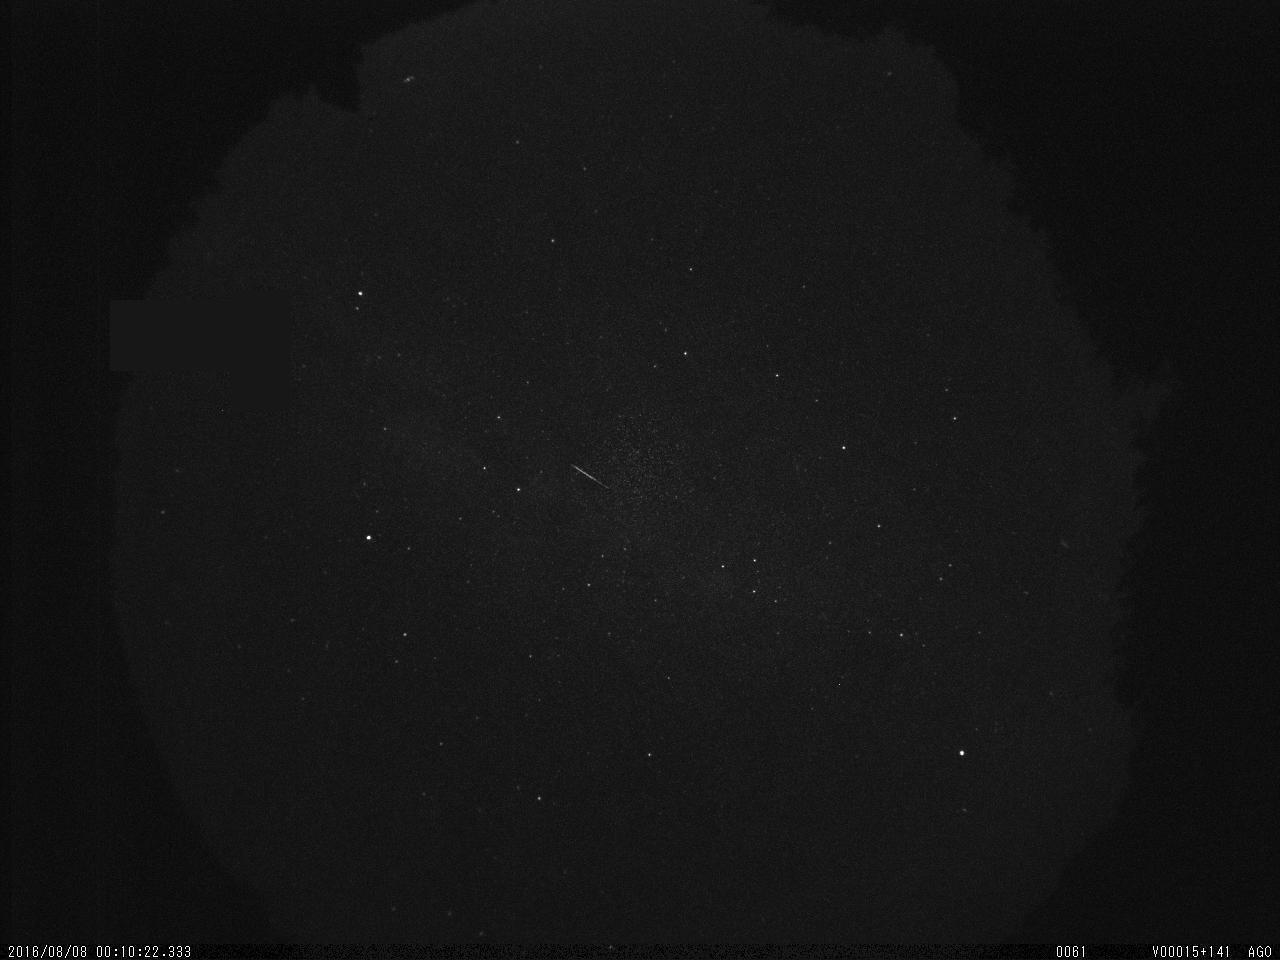Meteor: (566, 459, 616, 495)
